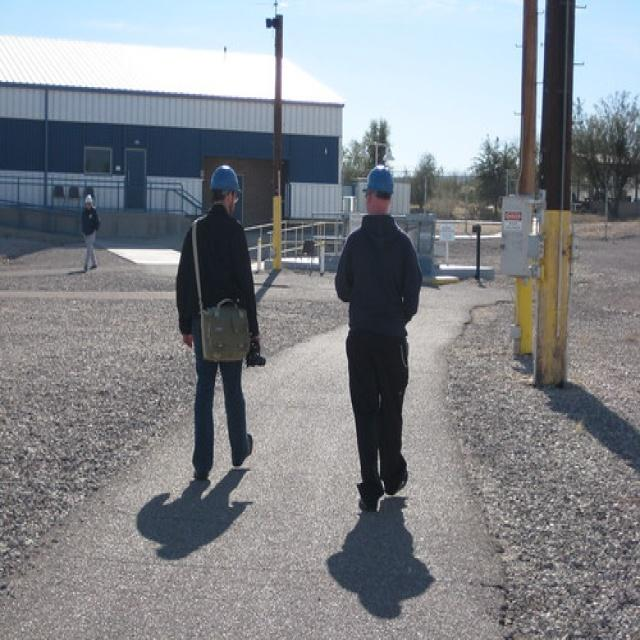helmet: (212, 213, 245, 259), (365, 216, 398, 259)
